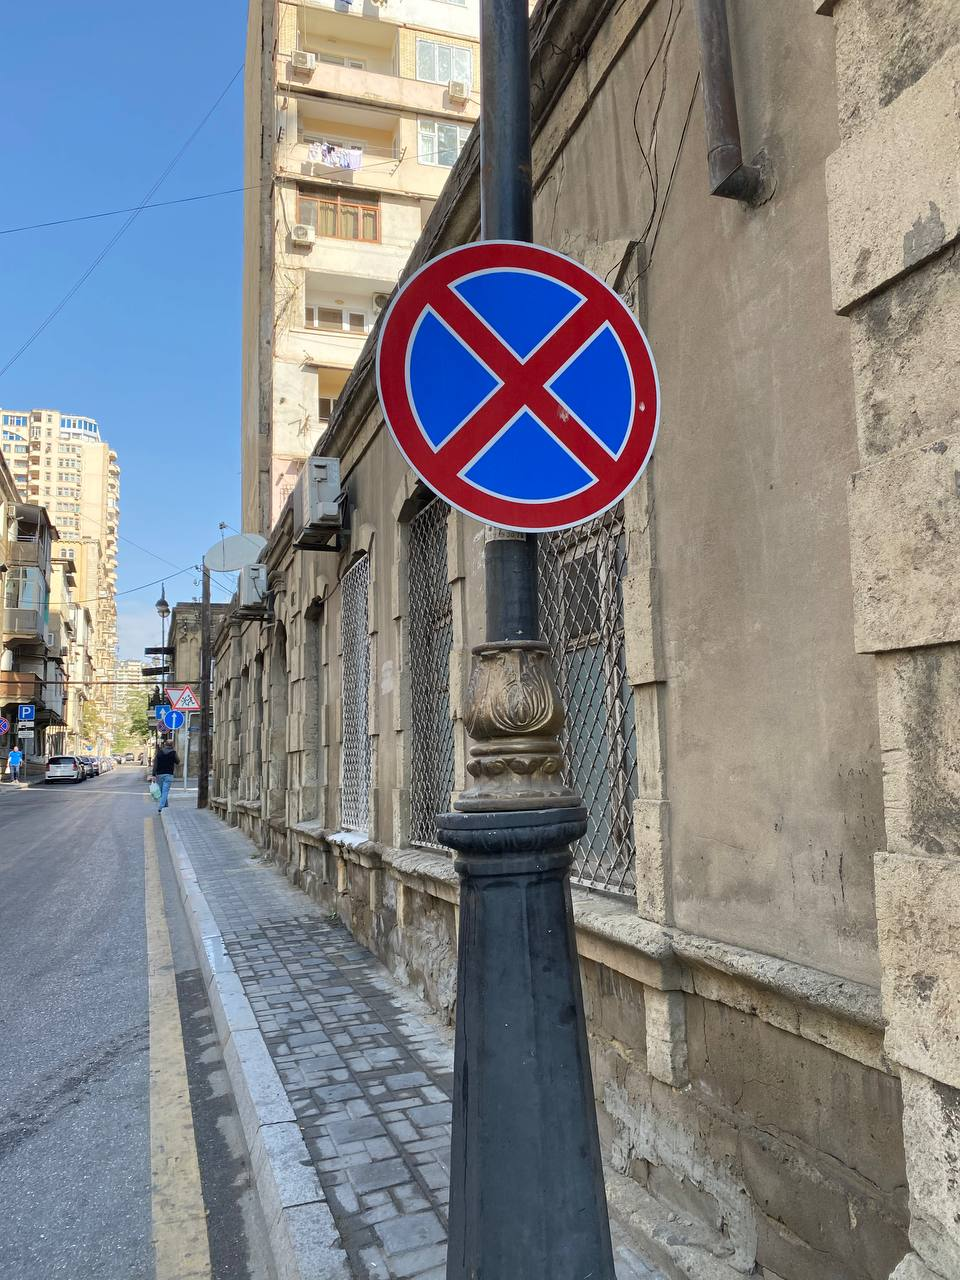No Parking: (376, 240, 662, 533)
